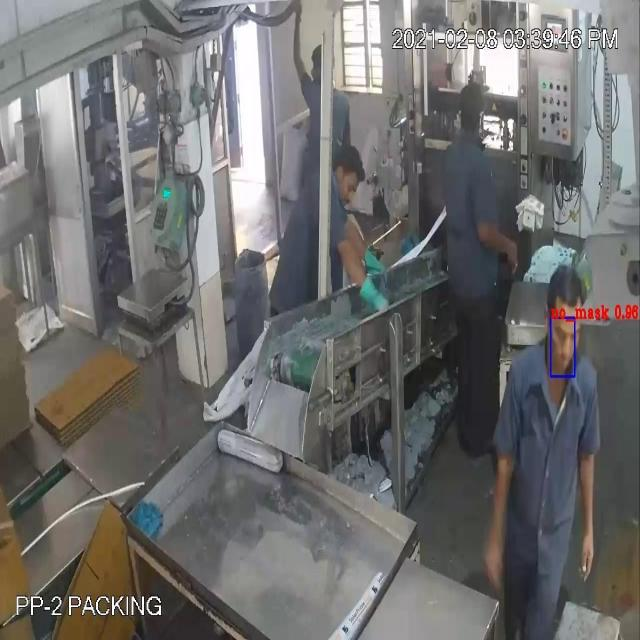No_Gloves: (32, 74, 592, 508)
